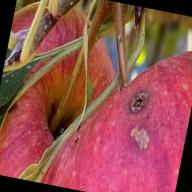Apples: (0, 0, 134, 192), (45, 28, 192, 192)
